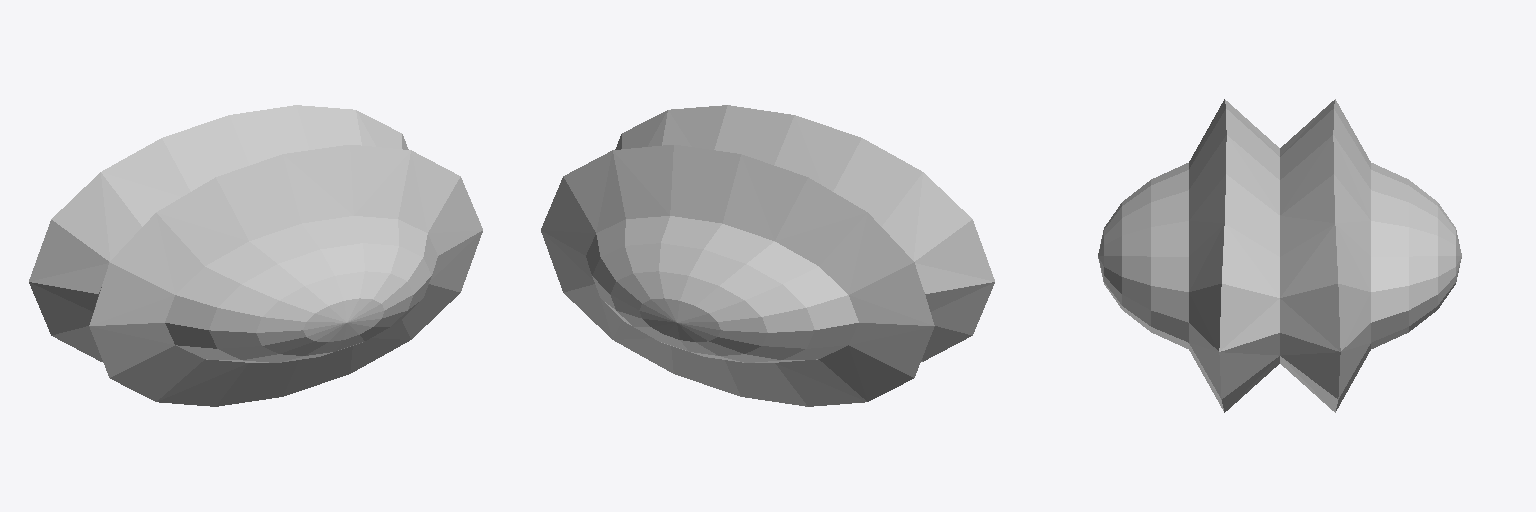
File: ballmorph1.obj
The picture shows the model from 3 angles: view 1: azimuth 30°, elevation 25°; view 2: azimuth 150°, elevation 25°; view 3: azimuth 270°, elevation 25°; orthographic projection.
Visible parts, largest first — view 1: sphere2; view 2: sphere2; view 3: sphere2.
Boxes of the visible parts, x1=… form: sphere2: x1=29, y1=105, x2=482, y2=406; sphere2: x1=541, y1=105, x2=994, y2=406; sphere2: x1=1098, y1=99, x2=1461, y2=412.
Size of the model in its own units: 2.07 by 1.22 by 1.66.